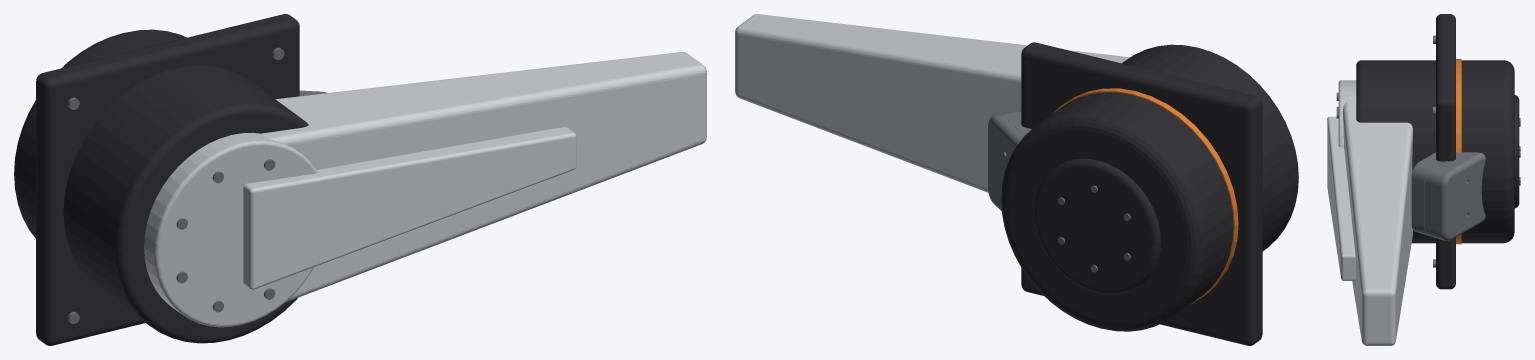
File: arm.glb
3 views of the same model, side by side, from view 1: azimuth 30°, elevation 25°; view 2: azimuth 150°, elevation 25°; view 3: azimuth 270°, elevation 25° (orthographic). The views are drawn at different scales.
Parts seen in each view (by area): view 1: b3, b4, b1; view 2: b3, b1, b4, b8; view 3: b3, b8, b1, b4.
Part boxes in pixels (x1=…): b3: x1=14, y1=29, x2=706, y2=343; b4: x1=243, y1=127, x2=576, y2=289; b1: x1=36, y1=14, x2=299, y2=345; b3: x1=735, y1=14, x2=1298, y2=331; b1: x1=1021, y1=42, x2=1262, y2=345; b4: x1=1034, y1=158, x2=1160, y2=294; b8: x1=988, y1=110, x2=1031, y2=211; b3: x1=1336, y1=59, x2=1514, y2=345; b8: x1=1411, y1=152, x2=1485, y2=240; b1: x1=1433, y1=14, x2=1455, y2=289; b4: x1=1327, y1=95, x2=1520, y2=280.
Bounding box in the file's own units: 0.2762 × 0.1156 × 0.1065.
